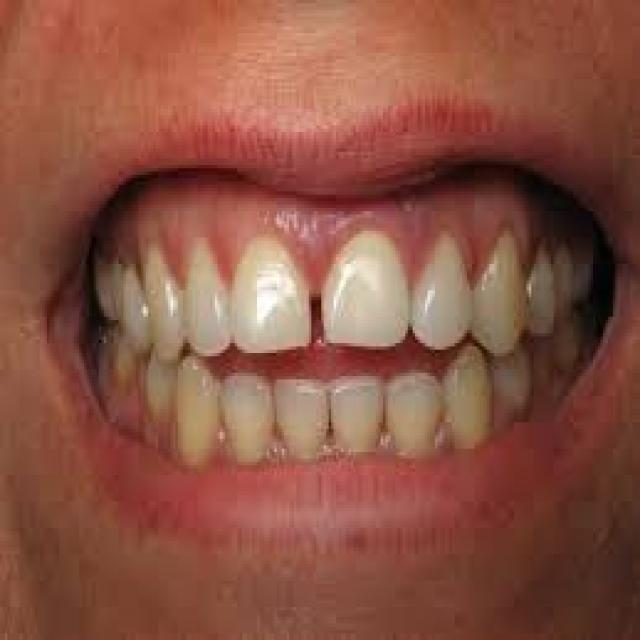tooth: (319, 228, 410, 350), (225, 238, 314, 360), (413, 215, 477, 356), (180, 231, 235, 356), (217, 360, 277, 465), (477, 235, 529, 356), (143, 234, 188, 360), (272, 363, 331, 458), (326, 363, 386, 452), (388, 363, 447, 452), (175, 356, 222, 465), (447, 340, 494, 442)
